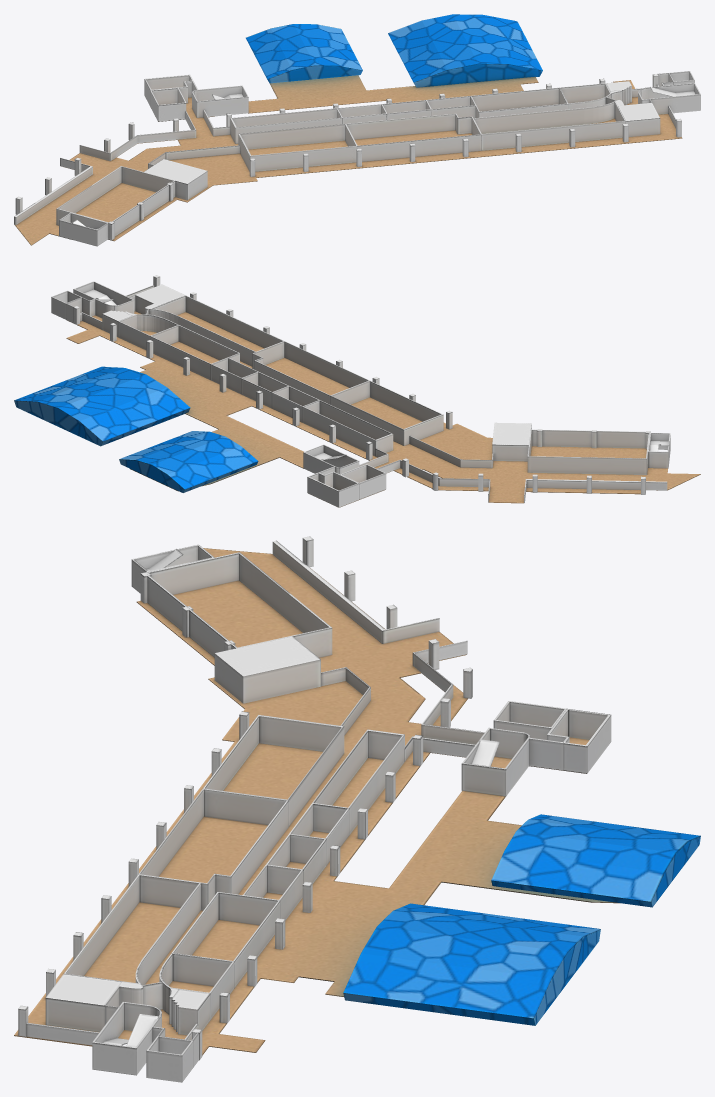
The picture shows the model from 3 angles, top to bottom: view 1: azimuth 30°, elevation 25°; view 2: azimuth 150°, elevation 25°; view 3: azimuth 270°, elevation 25°; orthographic projection. The views are drawn at different scales.
Parts seen in each view (by area): view 1: Rooms.1, Misc.1, Cap_2, Extra_wall.1, Permanent_columns.1, Floor; view 2: Rooms.1, Cap_2, Misc.1, Extra_wall.1, Permanent_columns.1, Floor; view 3: Cap_2, Misc.1, Rooms.1, Extra_wall.1, Permanent_columns.1, Floor.
Part boxes in pixels (x1,y1,x2,y2): Rooms.1: [56, 74, 631, 236]; Misc.1: [72, 14, 695, 229]; Cap_2: [15, 75, 681, 245]; Extra_wall.1: [14, 73, 700, 246]; Permanent_columns.1: [15, 74, 681, 240]; Floor: [15, 82, 682, 245]; Rooms.1: [102, 295, 649, 507]; Cap_2: [66, 311, 700, 502]; Misc.1: [14, 284, 668, 492]; Extra_wall.1: [66, 281, 670, 502]; Permanent_columns.1: [73, 275, 650, 494]; Floor: [66, 320, 700, 507]; Cap_2: [14, 548, 612, 1054]; Misc.1: [45, 549, 700, 1082]; Rooms.1: [64, 552, 611, 1035]; Extra_wall.1: [26, 540, 563, 1075]; Permanent_columns.1: [18, 536, 472, 1060]; Floor: [14, 602, 619, 1055].
Bounding box in the file's own units: 141 × 3.85 × 76.38.
1 material, 1 textured.
